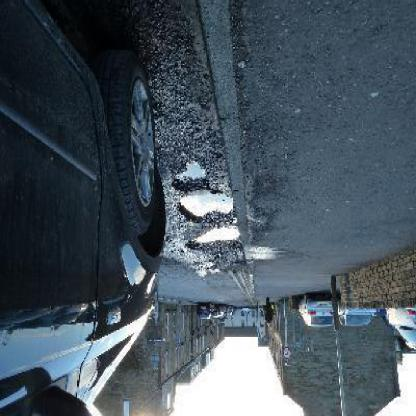pothole: (187, 224, 243, 255), (180, 194, 237, 224), (174, 162, 211, 192)
